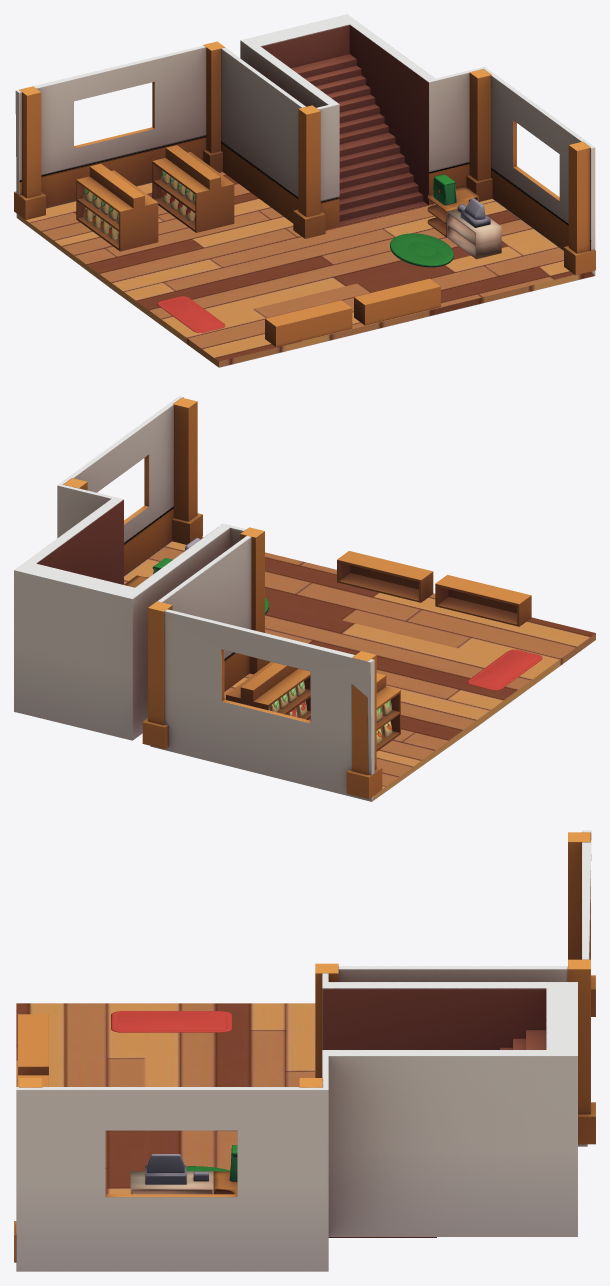
File: SHOP.fbx
3 renders of one model, top to bottom at view 1: azimuth 30°, elevation 25°; view 2: azimuth 150°, elevation 25°; view 3: azimuth 270°, elevation 25°, orthographic. The views are drawn at different scales.
Parts seen in each view (by area): view 1: Plane.001; view 2: Plane.001; view 3: Plane.001.
Boxes of the visible parts, x1,y1,x2,y2 form: Plane.001: (14, 14, 595, 367); Plane.001: (14, 396, 595, 801); Plane.001: (14, 830, 595, 1271).
Bounding box in the file's own units: 2968 × 1002 × 2811.
6 materials, 6 textured.
